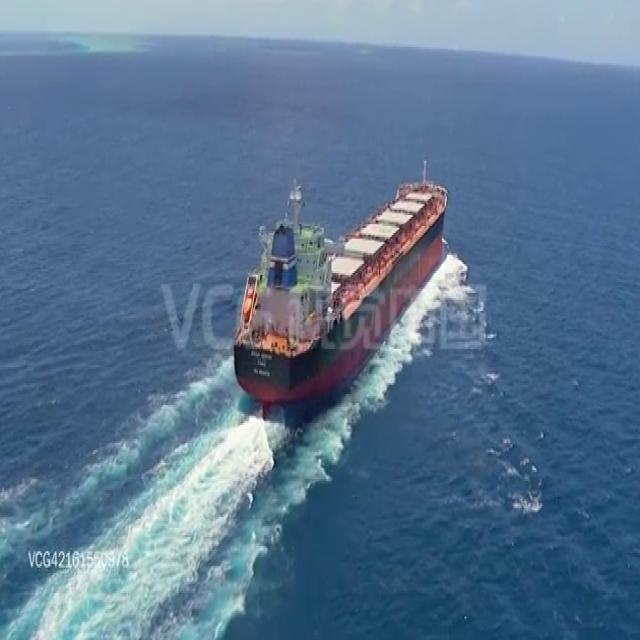cargoship: (224, 160, 451, 398)
